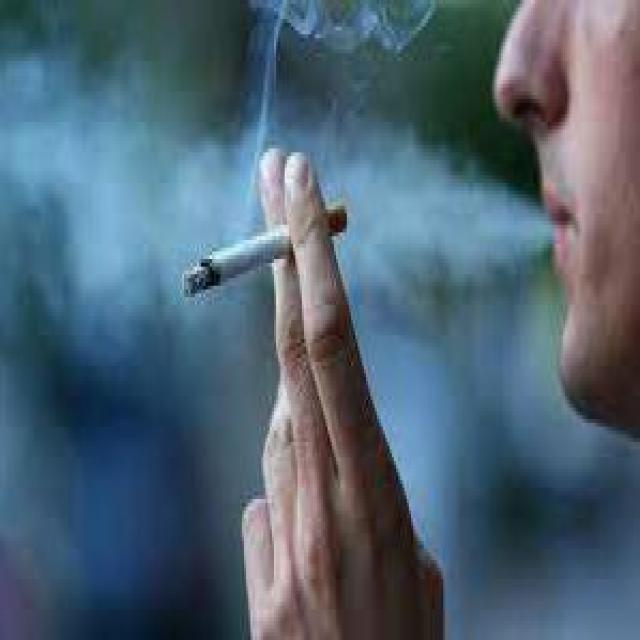smoke: (180, 194, 349, 297)
